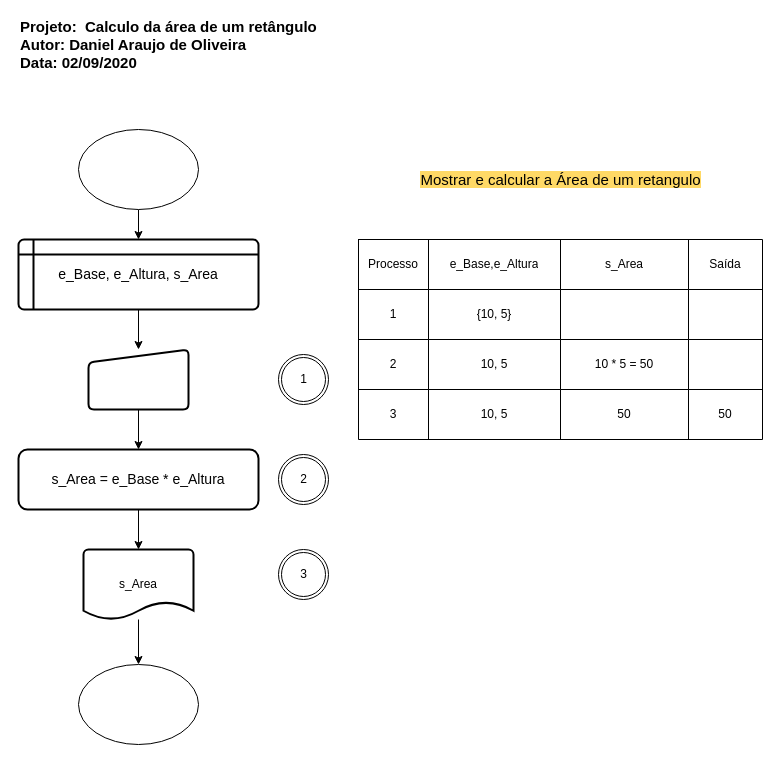
Some shapes in this 780 by 762 pixel diagram are drawn without their labels. The centre of each missing label's shape, as x and y in pixels:
"e_Base, e_Altura" goes at point (138, 379).
"Fim" goes at point (138, 704).
"Inicio" goes at point (138, 169).
